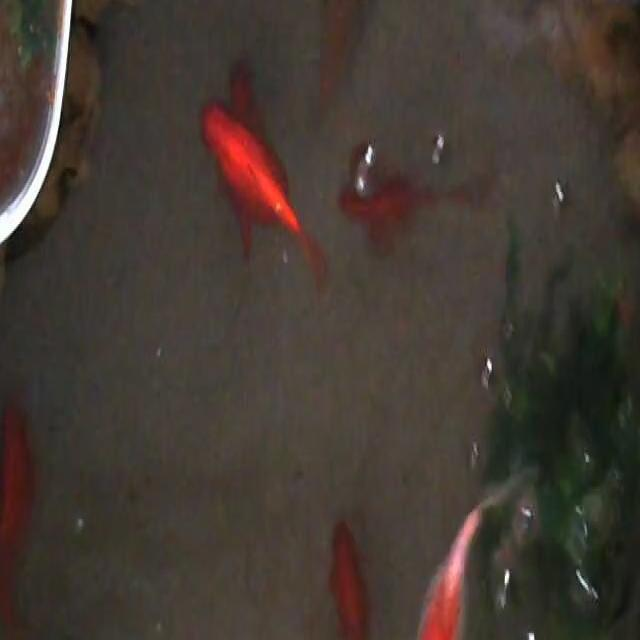fish: (198, 76, 326, 299), (338, 142, 498, 257), (406, 492, 491, 640), (0, 394, 38, 640), (327, 514, 386, 640), (317, 0, 362, 108)
